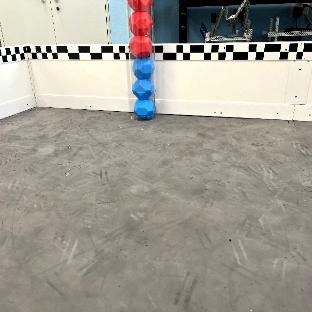Loader: (123, 0, 158, 118)
V5_BLUE: (133, 57, 154, 77), (133, 78, 154, 98), (135, 98, 154, 119)
V5_RED: (130, 33, 152, 58), (128, 0, 152, 11)
